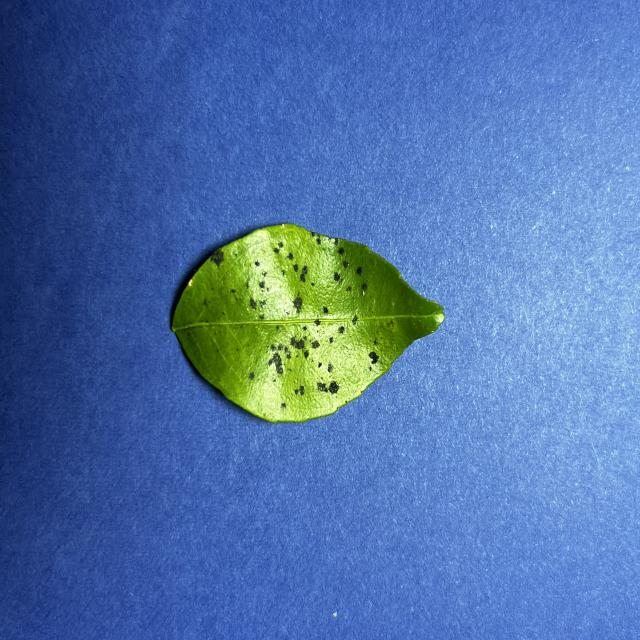sooty_mold: (172, 224, 444, 421)
